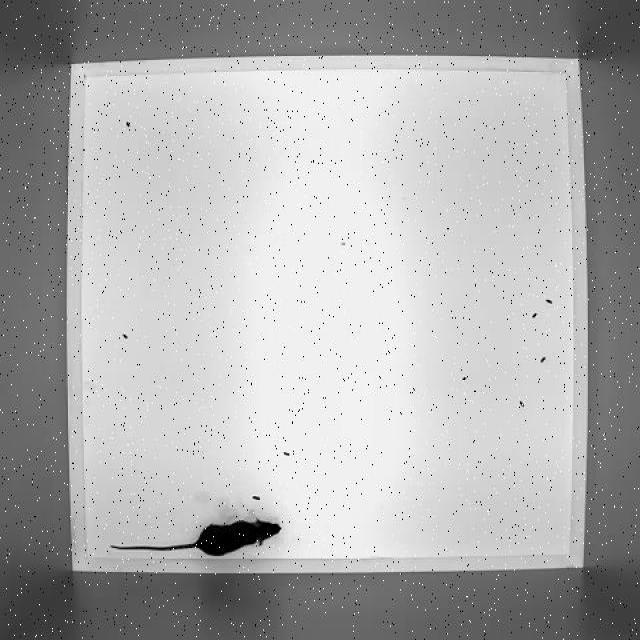rat: (108, 513, 284, 559)
